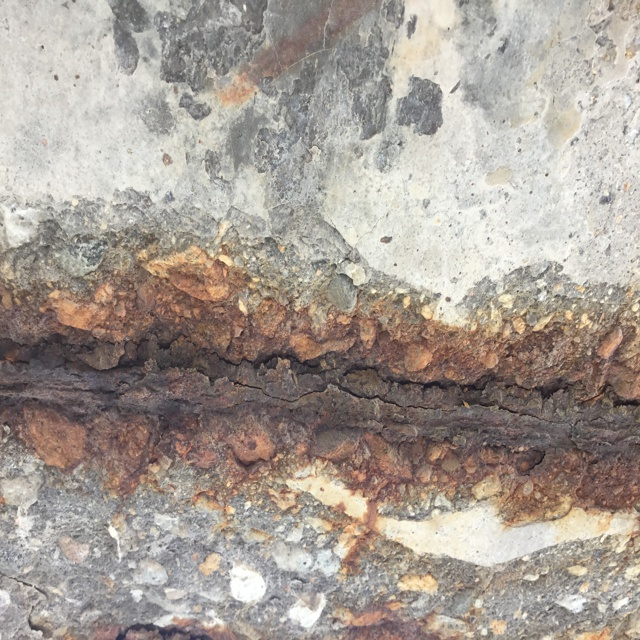rebar: (0, 338, 639, 470)
